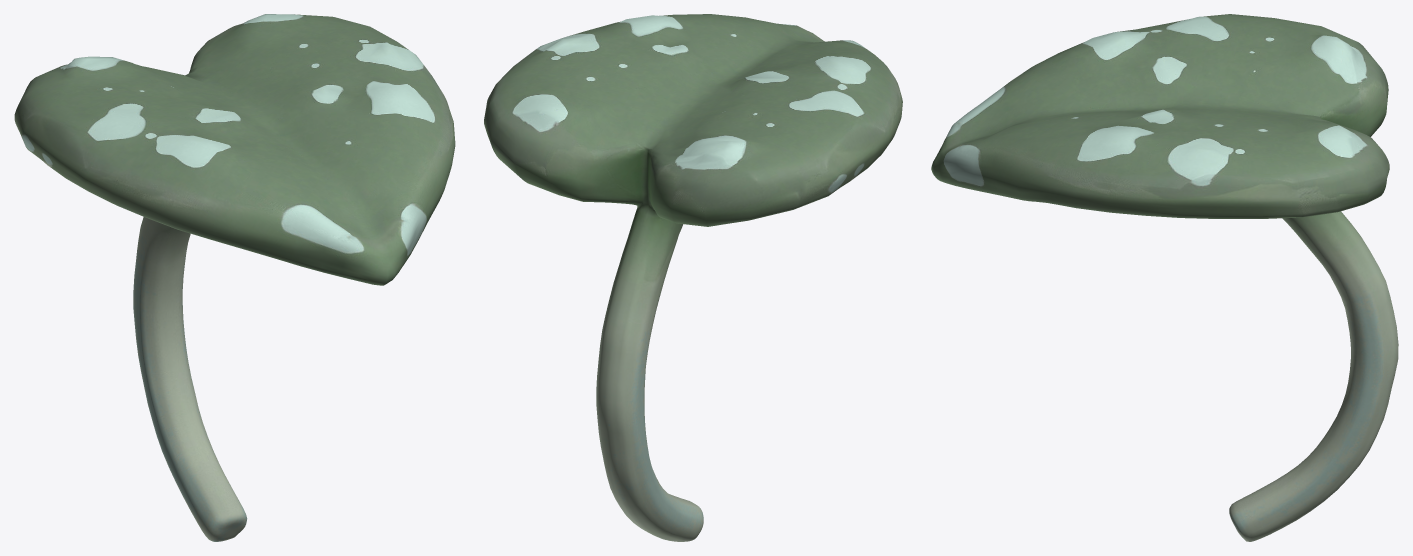
The model's file is pothos_silver_droplet_v2.glb.
The picture shows the model from 3 angles, left to right: view 1: azimuth 30°, elevation 25°; view 2: azimuth 150°, elevation 25°; view 3: azimuth 270°, elevation 25°; orthographic projection. The views are drawn at different scales.
Parts seen in each view (by area): view 1: world; view 2: world; view 3: world.
Part boxes in pixels (box(x1,y1,x2,y2)): world: box(14, 14, 455, 541); world: box(484, 14, 902, 541); world: box(931, 14, 1398, 541).
Bounding box in the file's own units: 1.62 × 2 × 1.86.
1 material, 1 textured.
